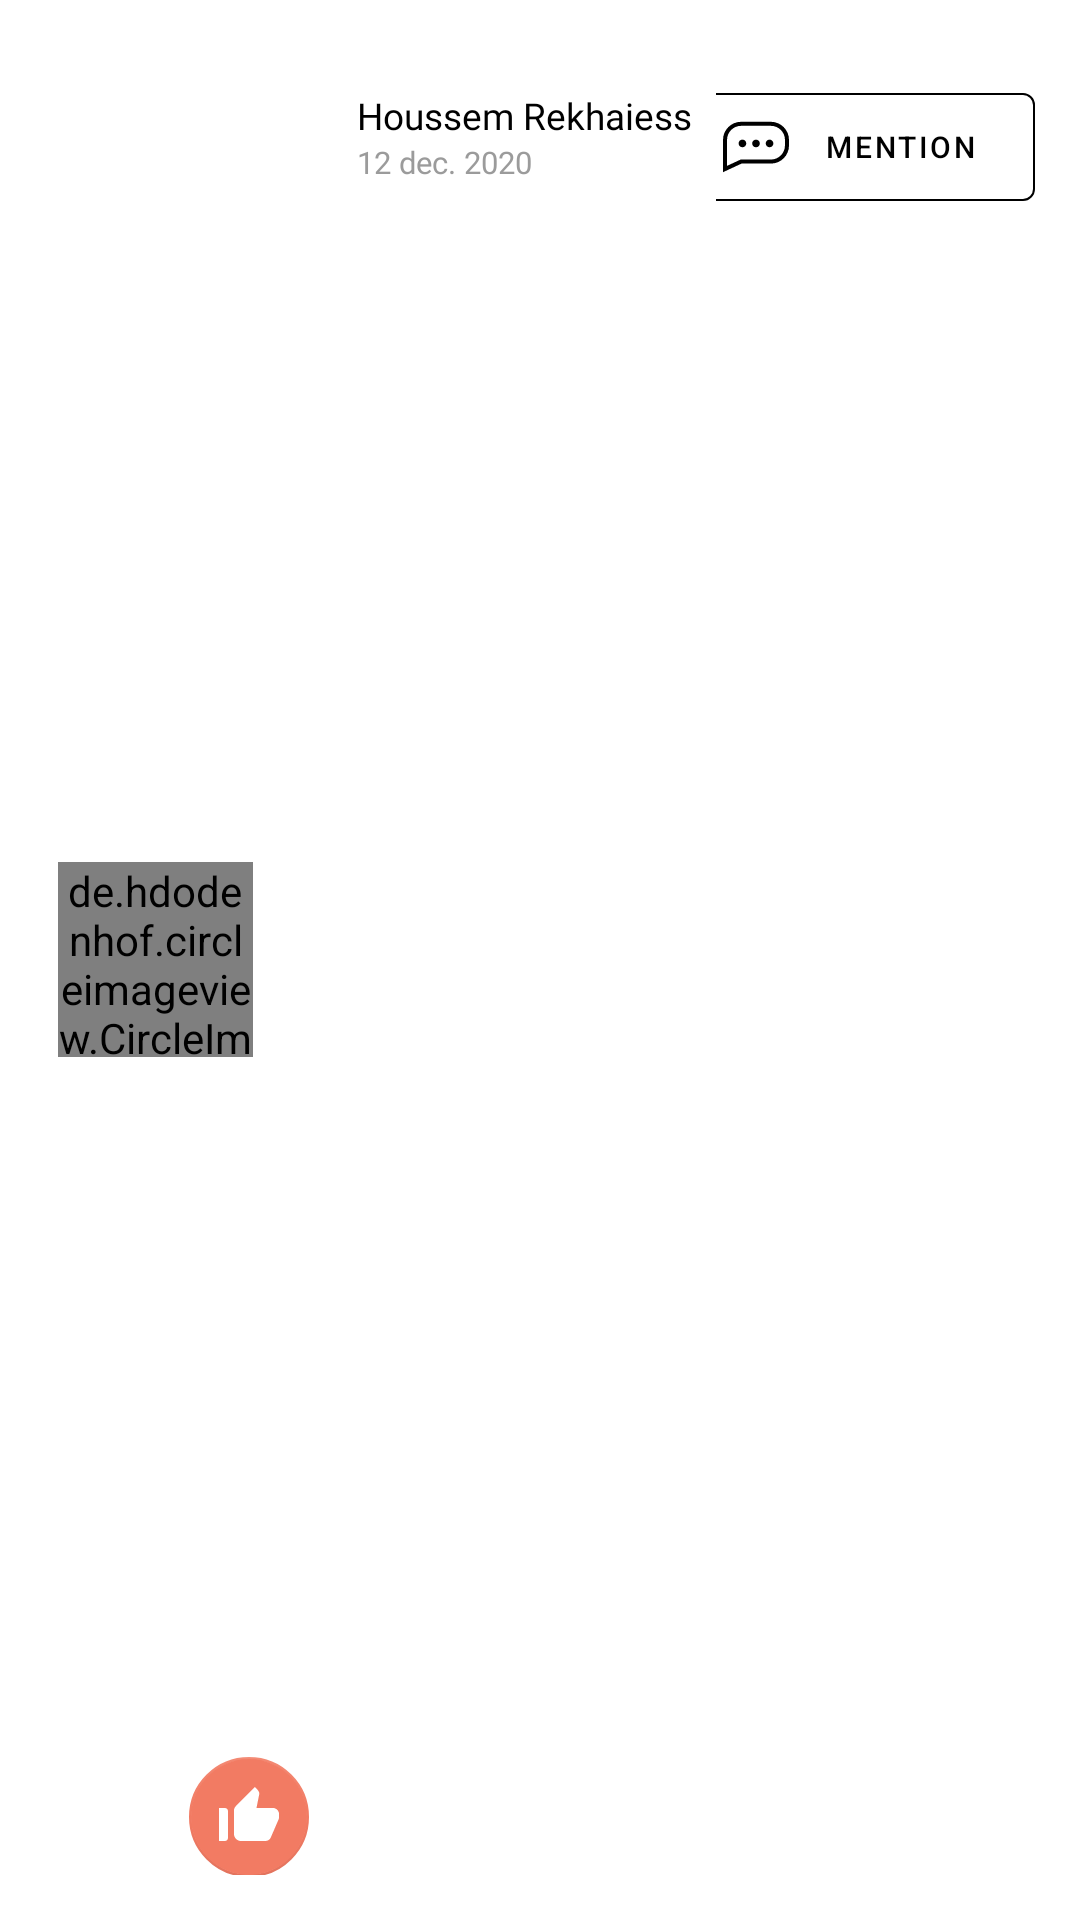

Icons on this 1080*1920 Android screen, each with the point to tap as (x=x, y=y):
like badge: (x=249, y=1816)
